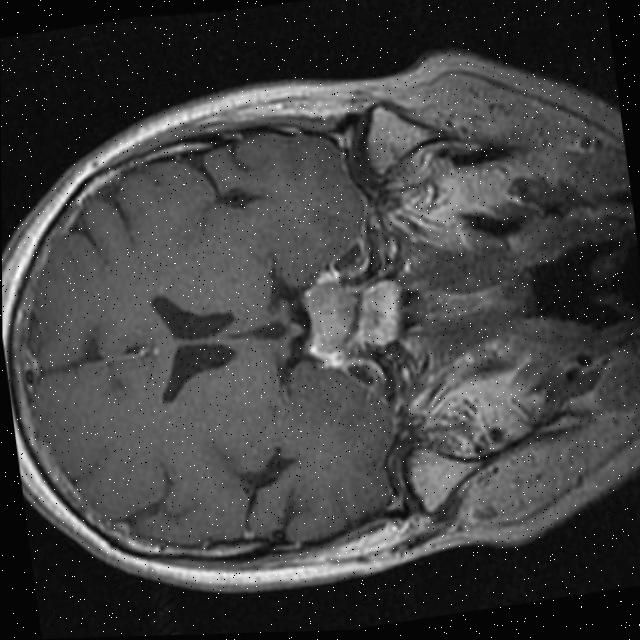Pituitary: (295, 267, 407, 357)
